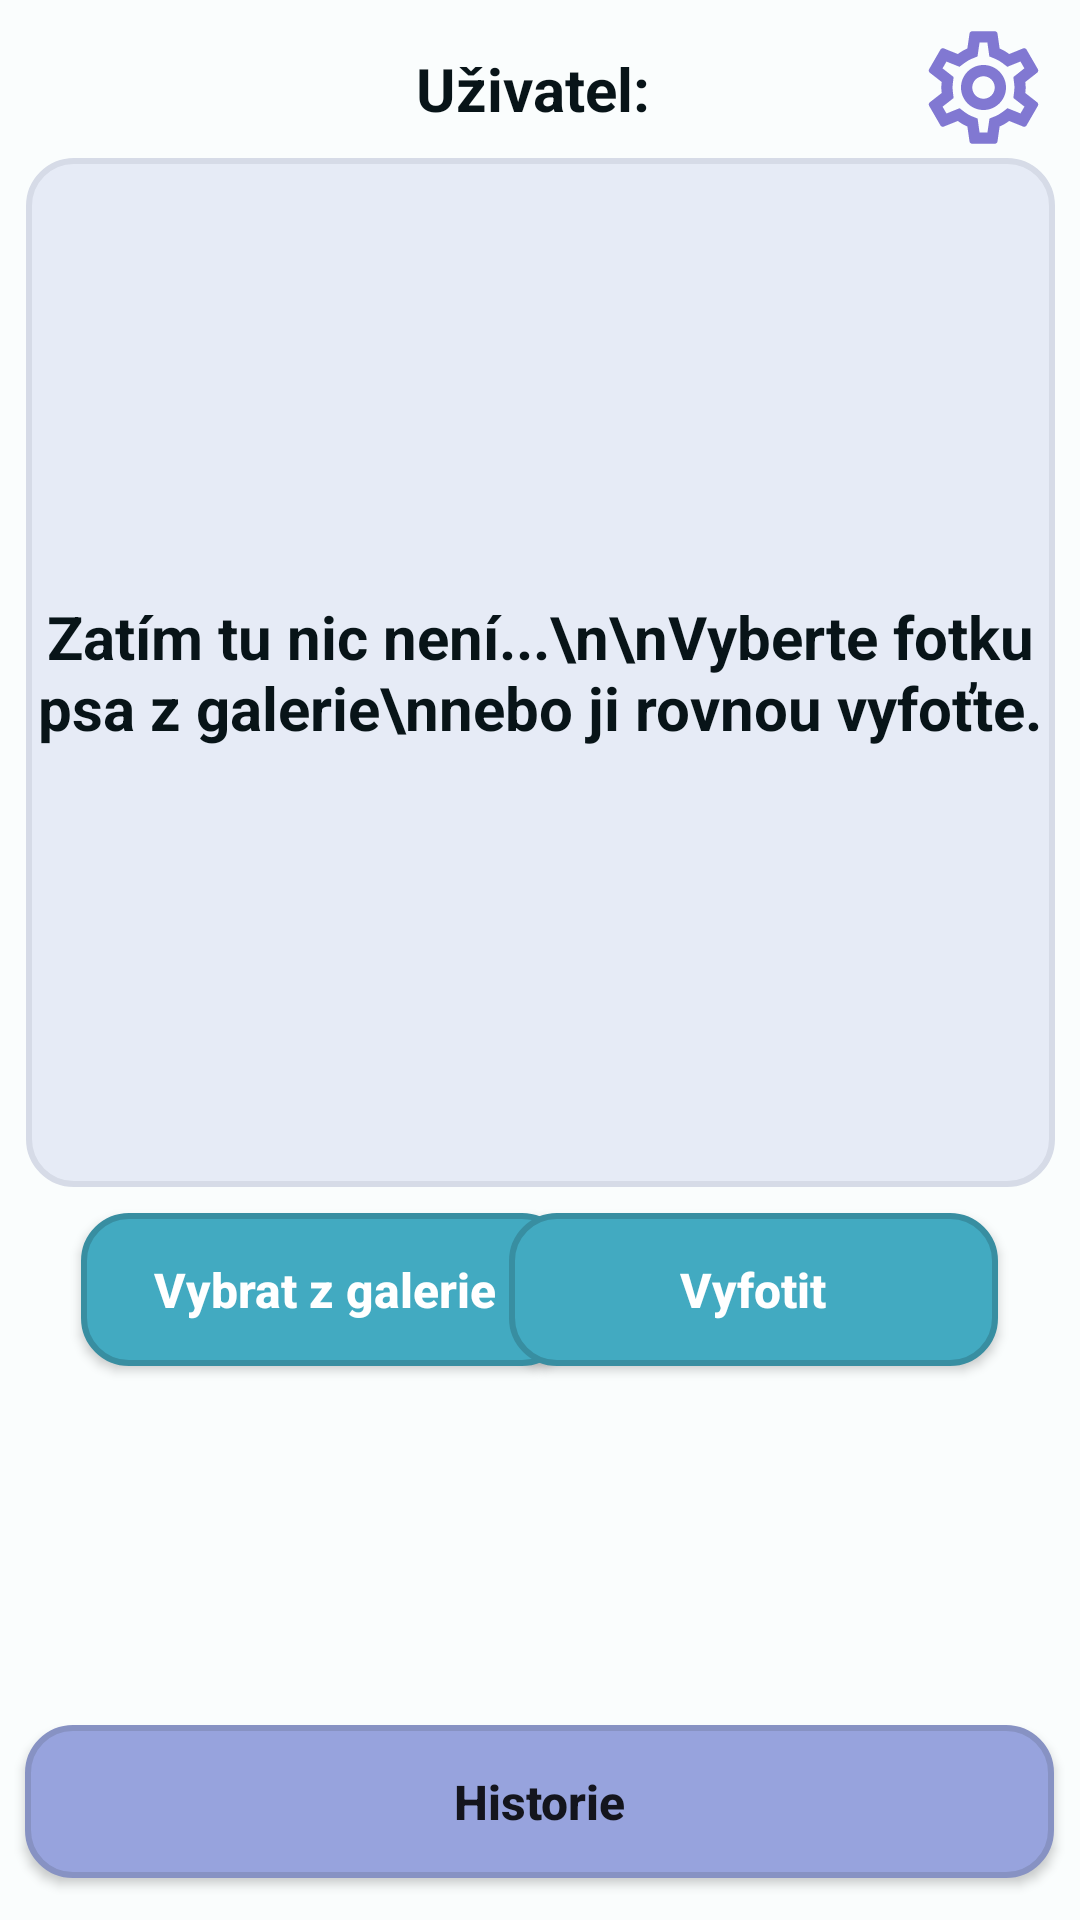

Screen size 1080*1920. Icon name, then its center in pixels as [x,y]:
settings: [983,87]
